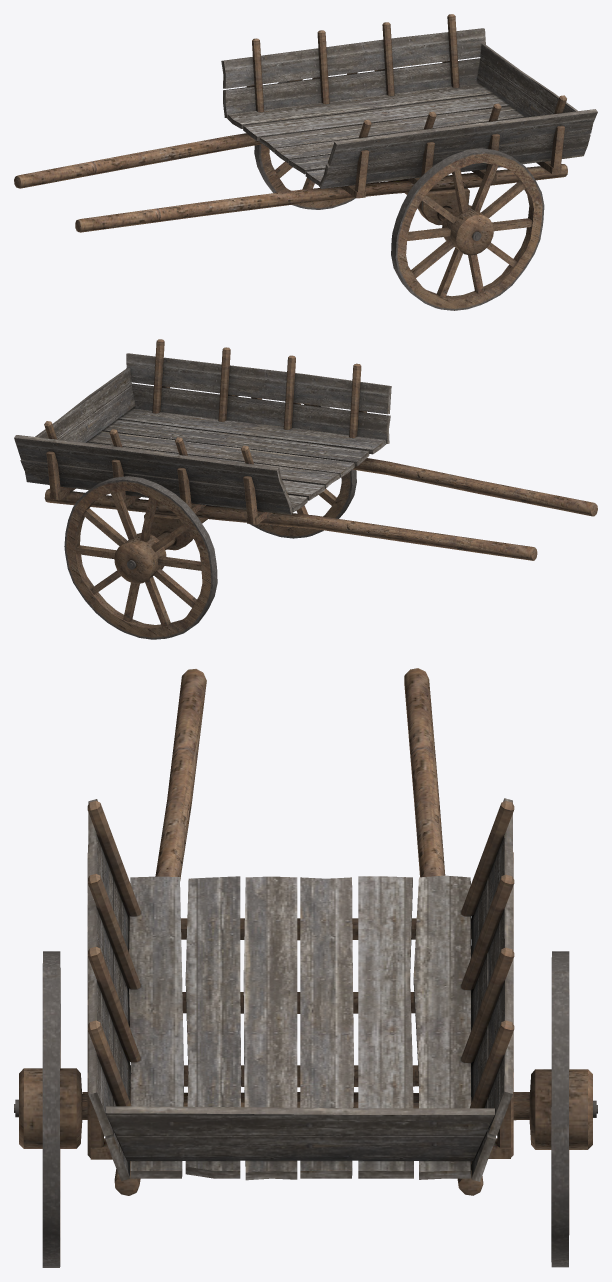
Rendered from carroza.obj.
The picture shows the model from 3 angles, top to bottom: view 1: azimuth 30°, elevation 25°; view 2: azimuth 150°, elevation 25°; view 3: azimuth 270°, elevation 25°; orthographic projection. The views are drawn at different scales.
Size of the model in its own units: 79.2 by 30.72 by 43.91.
1 material, 1 textured.
